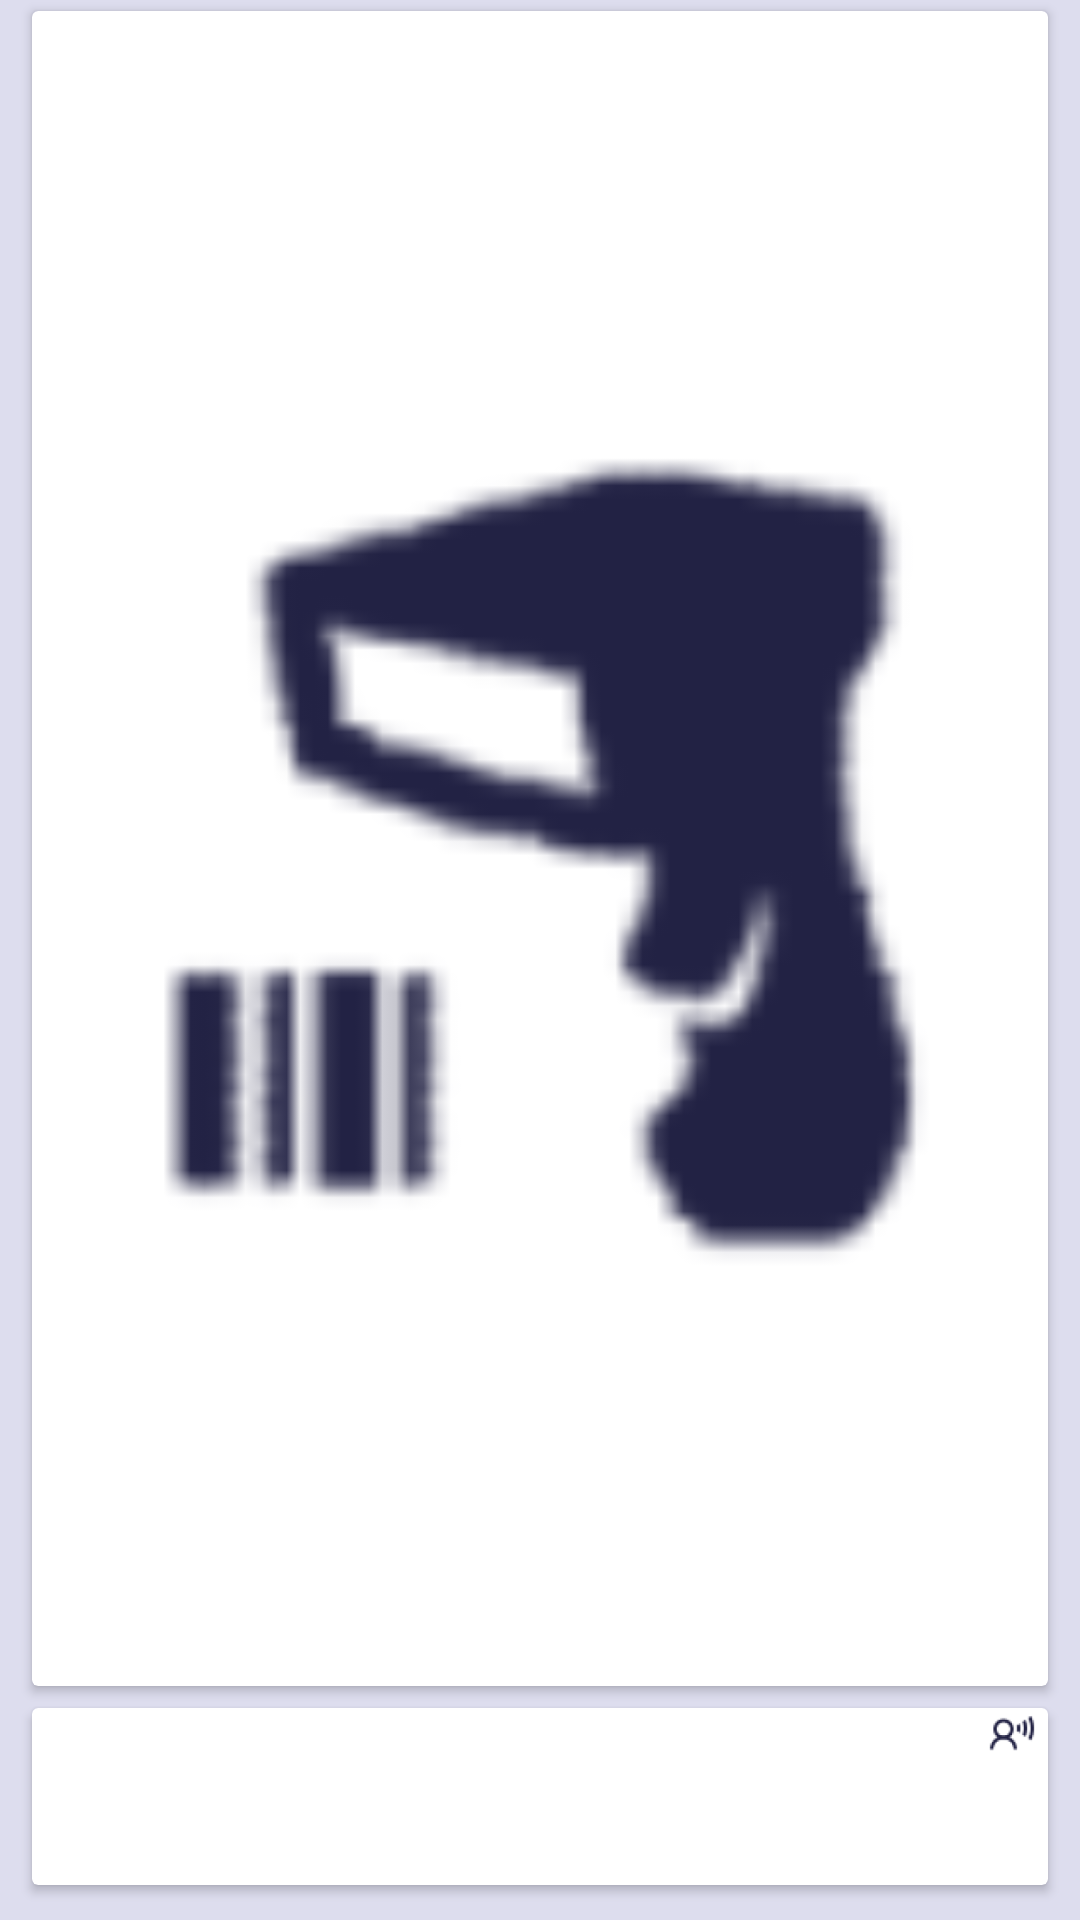

Named icons in this screenshot (1080*1920) and their bounding boxes, (x1, y1, x2, y2):
narrador: (989, 1716, 1035, 1750)
